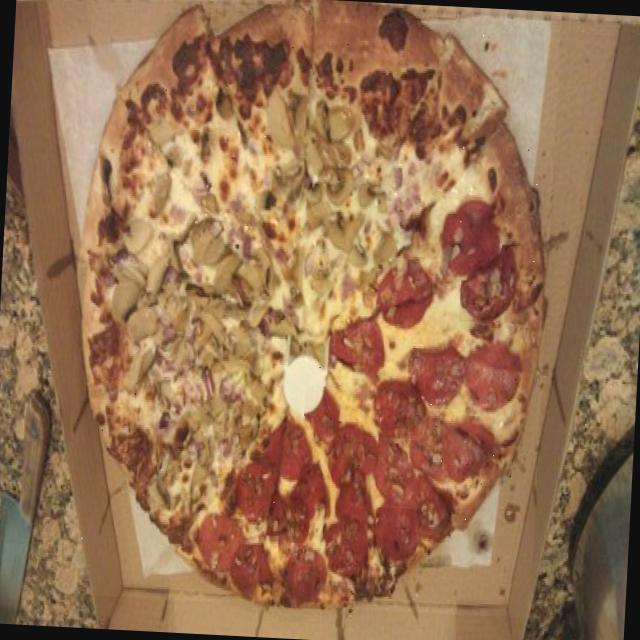mushrooms: (180, 210, 302, 350), (302, 95, 386, 272), (184, 307, 282, 439), (110, 226, 194, 379), (152, 410, 233, 510), (259, 85, 316, 221), (359, 225, 399, 296), (222, 404, 268, 455), (206, 84, 245, 142), (304, 250, 341, 302), (156, 136, 192, 173)
pepperoni: (410, 413, 496, 488), (440, 195, 504, 282), (460, 242, 526, 324), (376, 258, 439, 334), (369, 375, 431, 452), (404, 338, 470, 408), (462, 338, 522, 412), (327, 314, 388, 381), (192, 510, 250, 578), (260, 414, 316, 484), (228, 534, 278, 611), (368, 437, 421, 509), (373, 497, 426, 568), (328, 420, 380, 490), (321, 518, 372, 584), (266, 486, 315, 554), (228, 460, 280, 524), (408, 472, 454, 540), (284, 541, 328, 609), (286, 462, 332, 526), (334, 471, 378, 528), (303, 386, 346, 444)
pizza: (80, 7, 547, 606)
